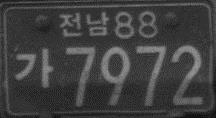2: (170, 43, 204, 106)
7: (64, 45, 96, 108), (135, 44, 167, 106)
8: (137, 10, 158, 39), (114, 10, 134, 40)
9: (100, 45, 130, 107)
가: (13, 46, 54, 89)
전남_O: (57, 10, 109, 37)
